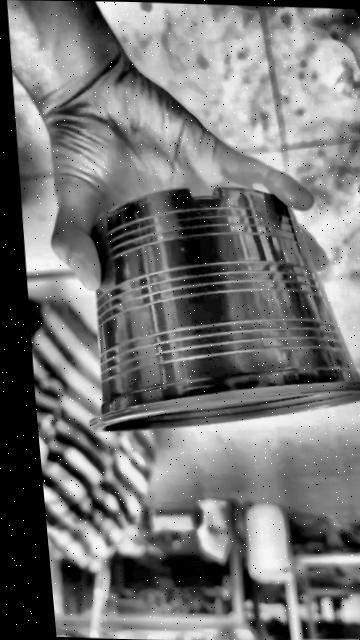pot: (88, 187, 360, 430)
